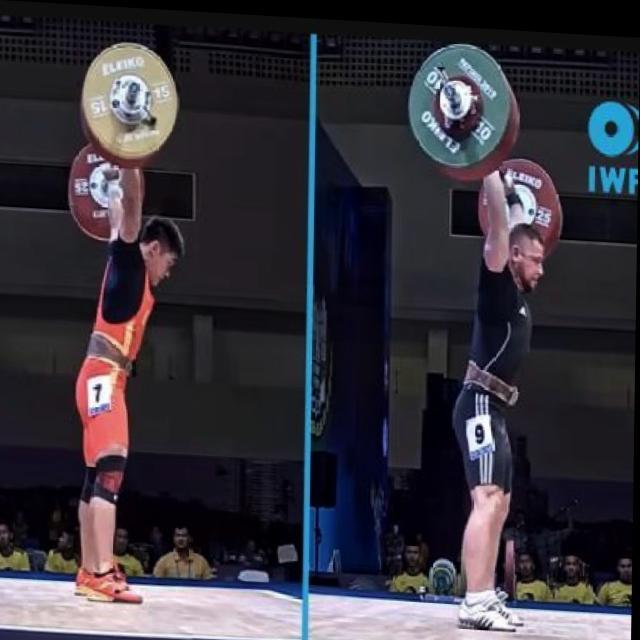barbell: (402, 35, 517, 170), (79, 35, 183, 166)
